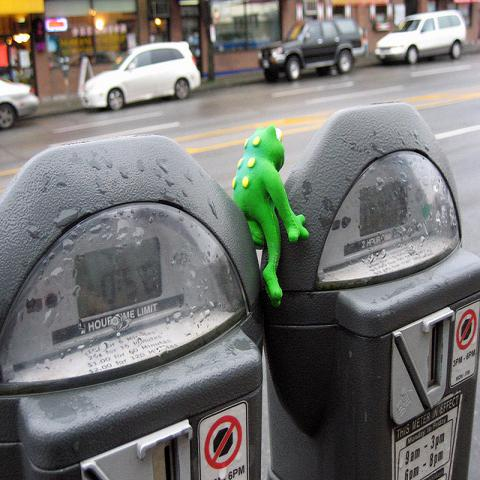car: (81, 41, 200, 112), (258, 15, 367, 84), (375, 9, 468, 65), (0, 71, 41, 132)
